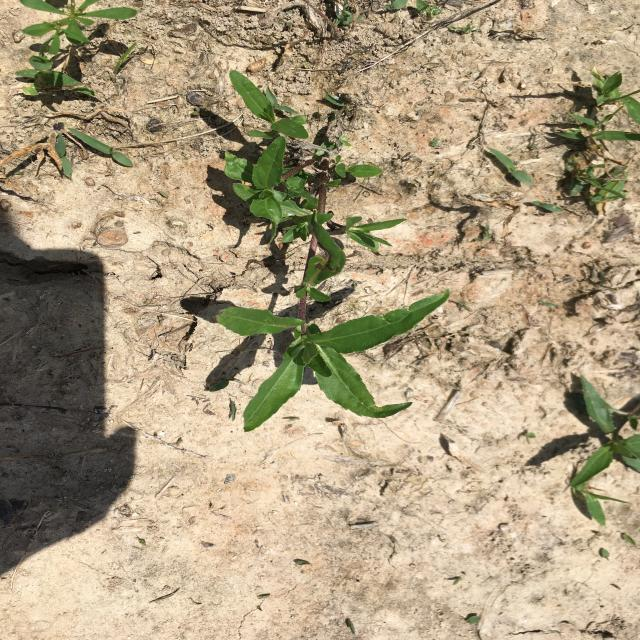Carpetweed: (19, 0, 137, 73)
Eclipta: (215, 68, 450, 432), (570, 374, 640, 487)
